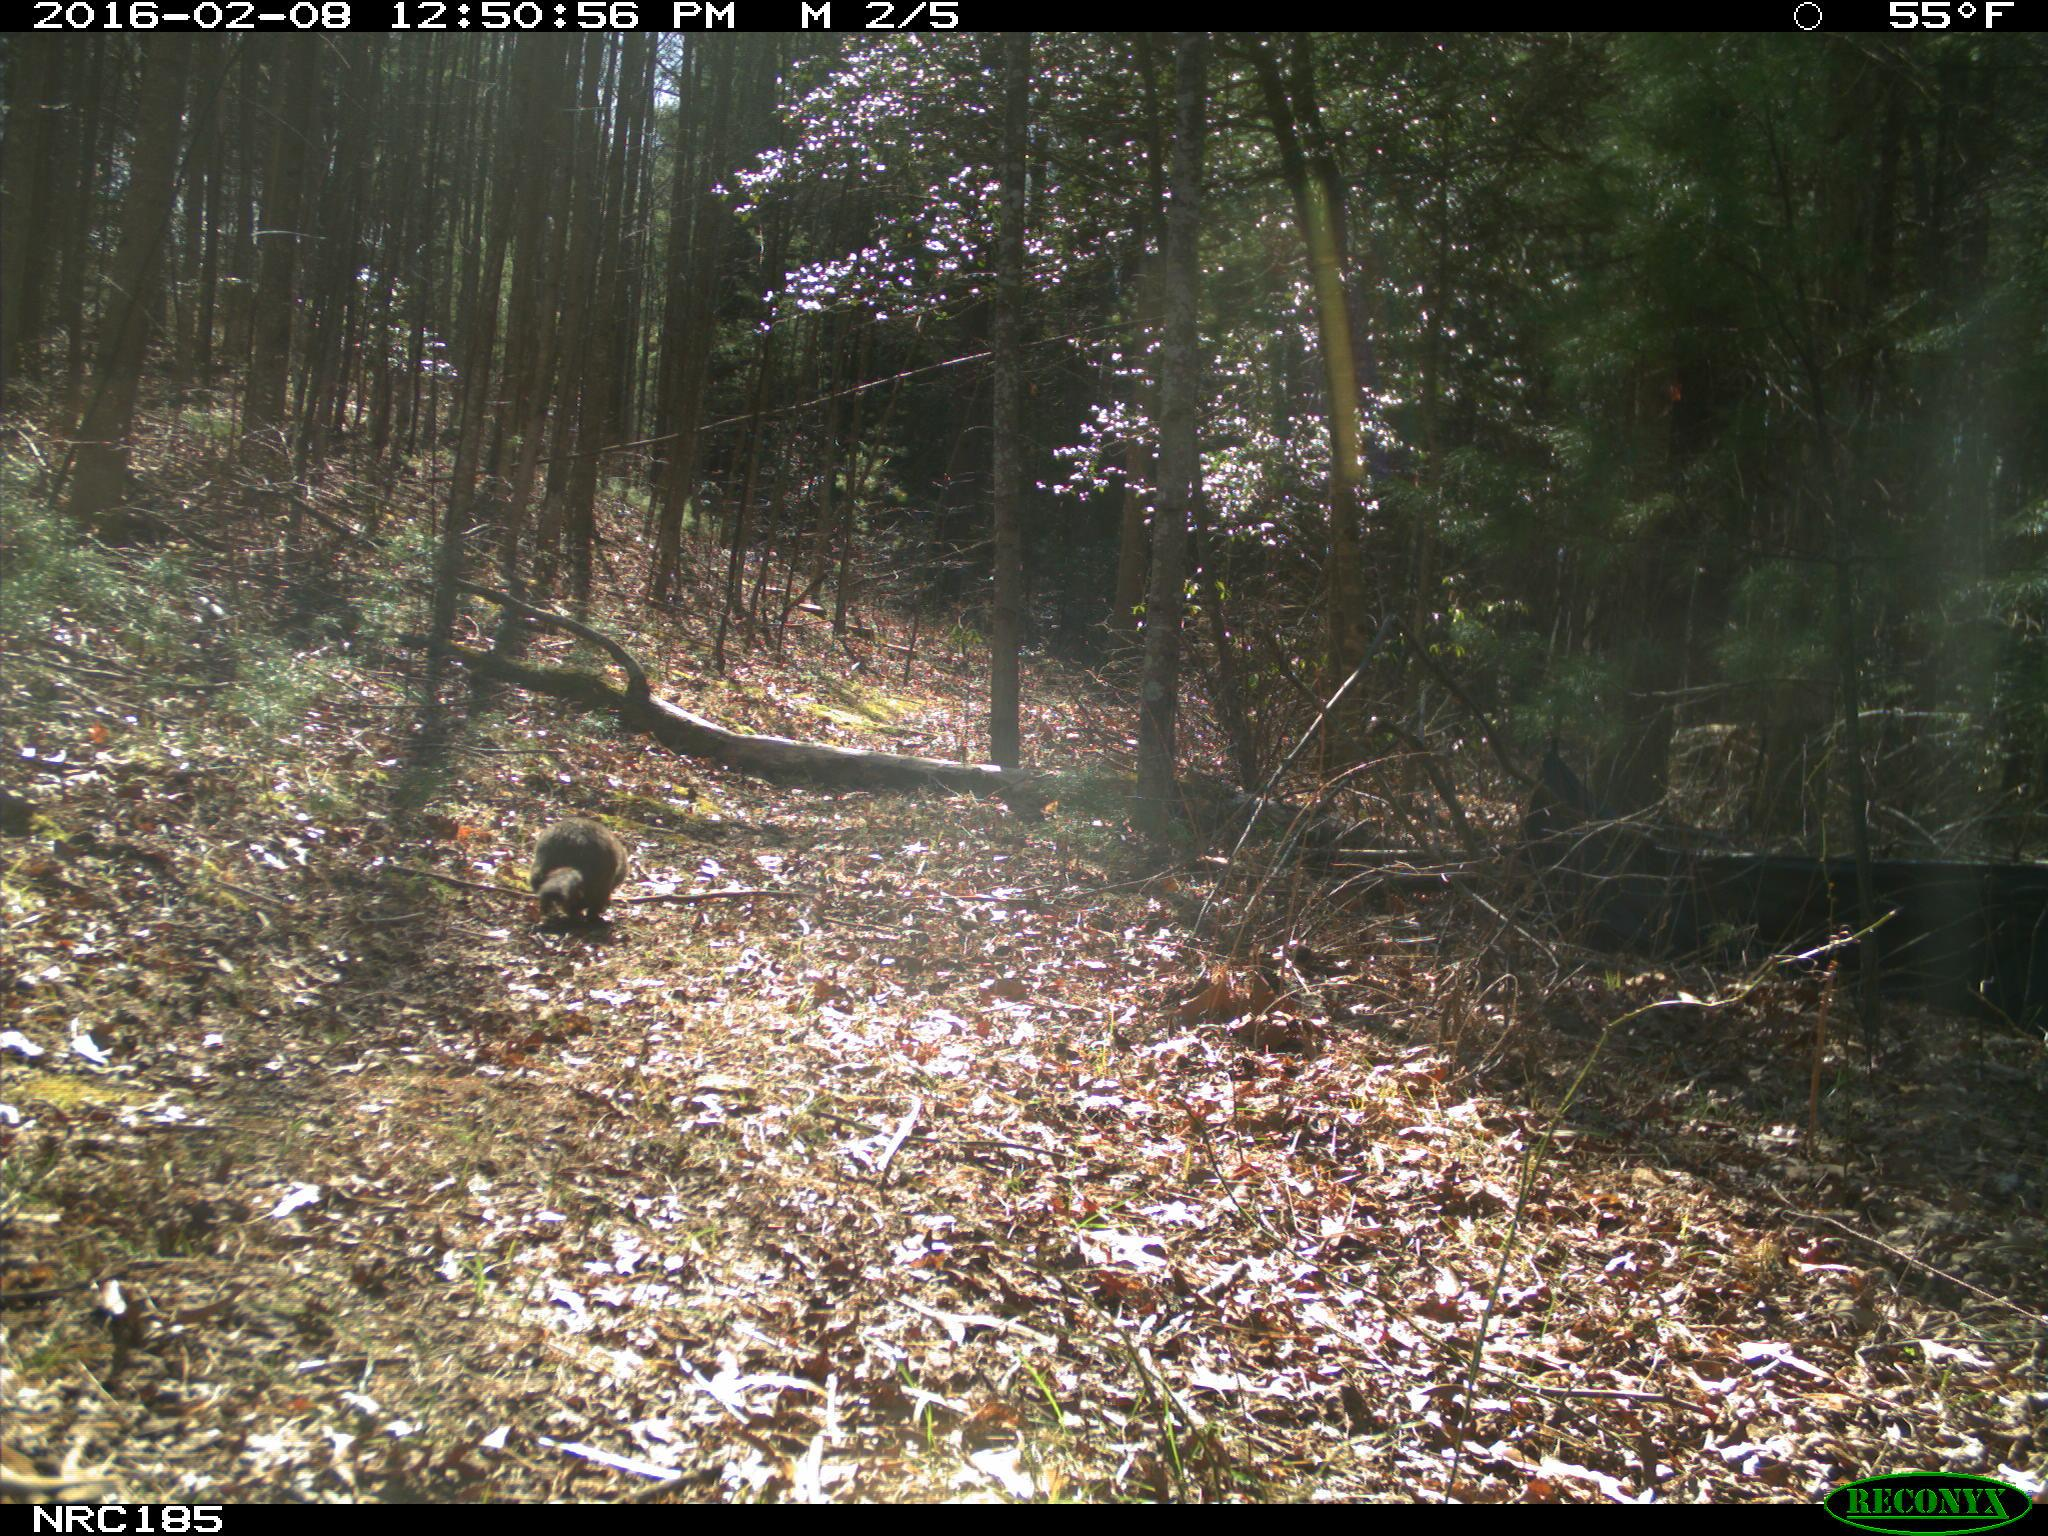Animal: (522, 815, 632, 939)
